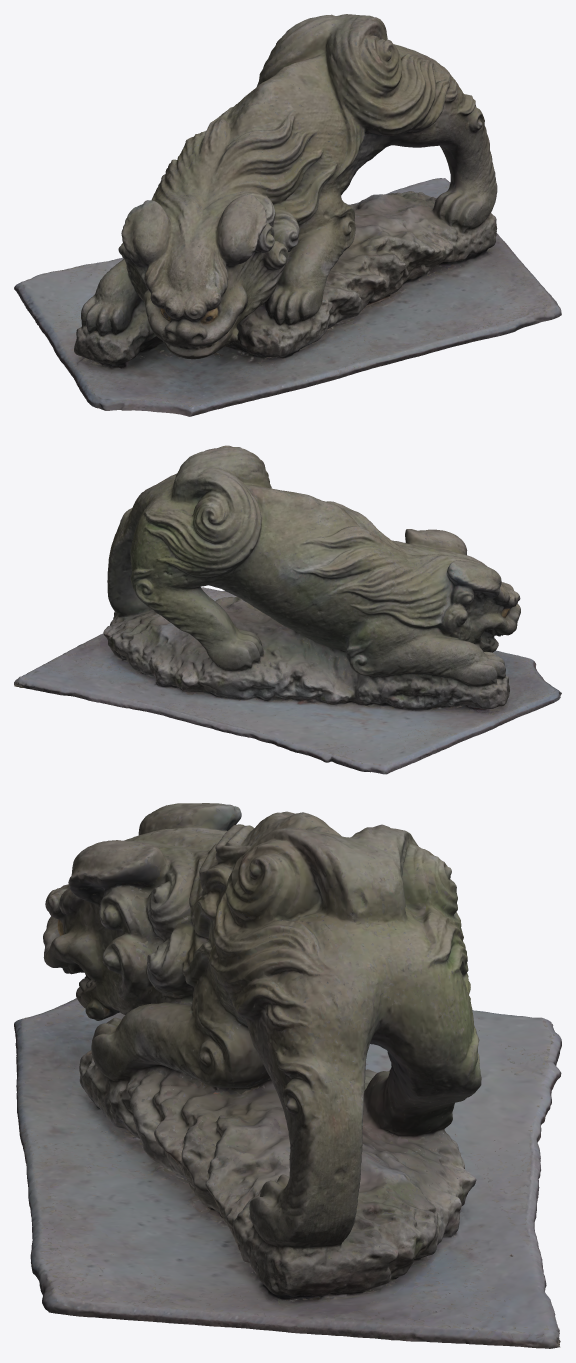
Rendered from sf-tanashi-jinja-shrine-d1c0ab.glb.
The picture shows the model from 3 angles, top to bottom: view 1: azimuth 30°, elevation 25°; view 2: azimuth 150°, elevation 25°; view 3: azimuth 270°, elevation 25°; orthographic projection. The views are drawn at different scales.
Visible parts, largest first — view 1: Object_2; view 2: Object_2; view 3: Object_2.
Boxes of the visible parts, x1,y1,x2,y2 form: Object_2: (14,14,561,416); Object_2: (14,445,561,774); Object_2: (14,803,561,1348).
Bounding box in the file's own units: 6.14 × 3.04 × 3.85.
Materials: 1 (1 with a texture image).
